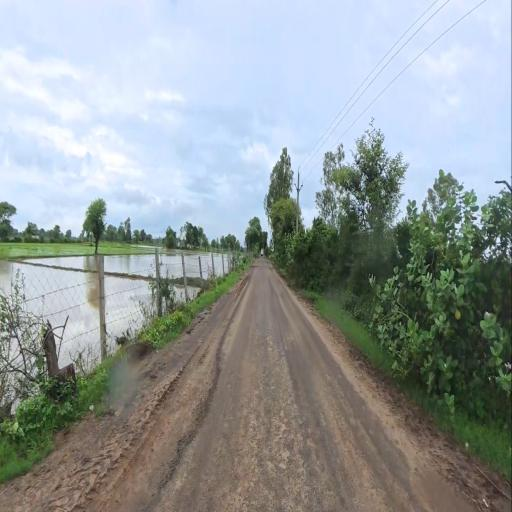edge_damage: (149, 336, 245, 501)
